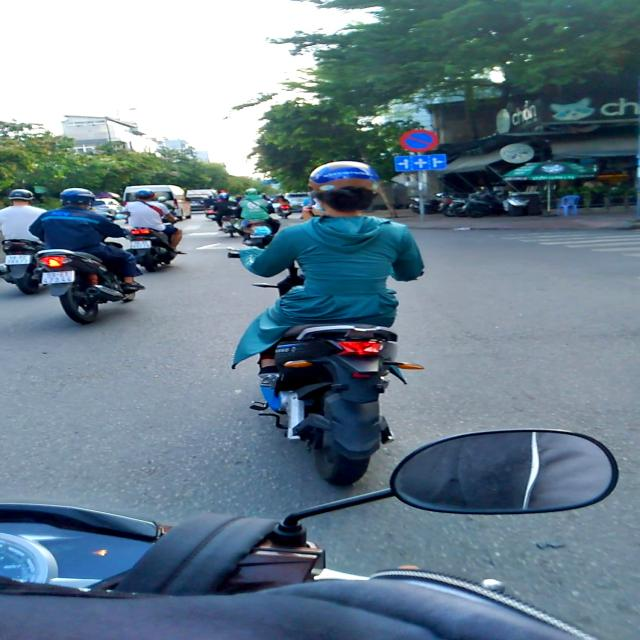Cam do: (399, 129, 438, 152)
